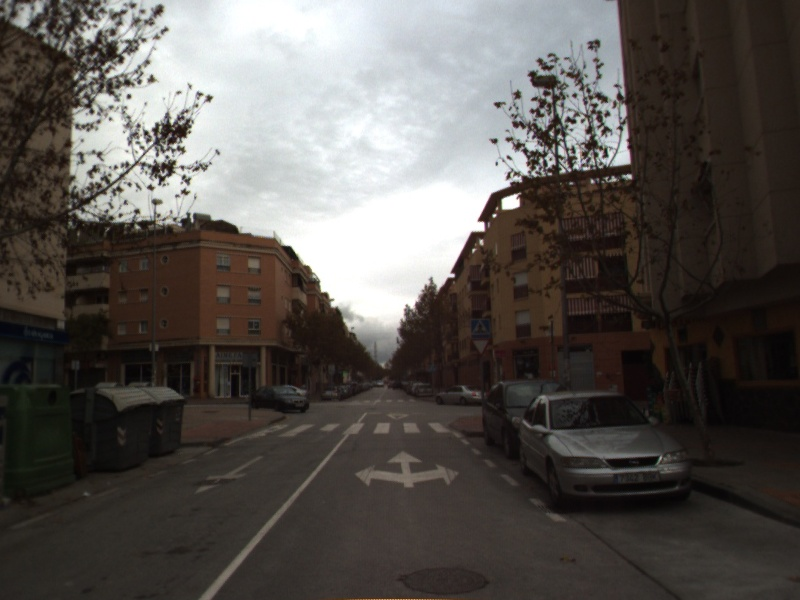STRAIGHT_LEFT_RIGHT: (352, 448, 462, 489)
